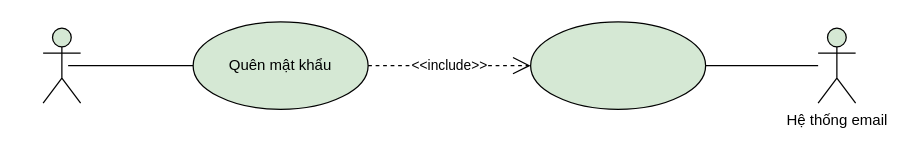
Some shapes in this 909 by 151 pixel diagram are drawn without their labels. The centre of each missing label's shape, as x and y in pixels:
"Người dùng" belongs at [61,65].
"Xác nhận liên kết đặt lại mật khẩu" belongs at [617,65].
